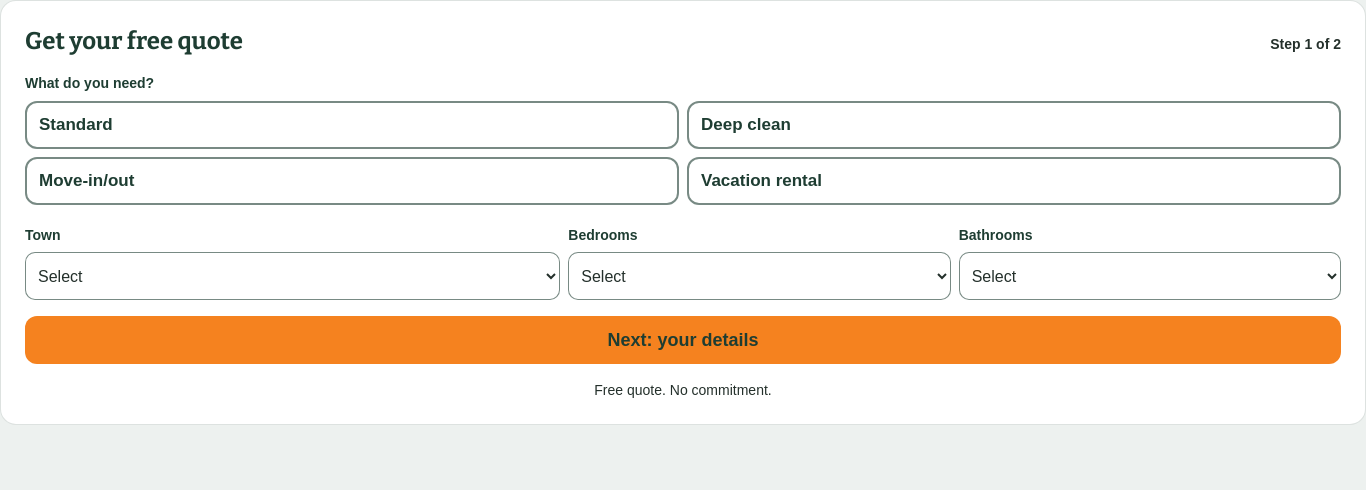
Test: QuoteForm step 1 › shows what's missing and stays on step 1 when Next is pressed early
Click the button "Next: your details" at (683, 340), box [25,316,1341,364]
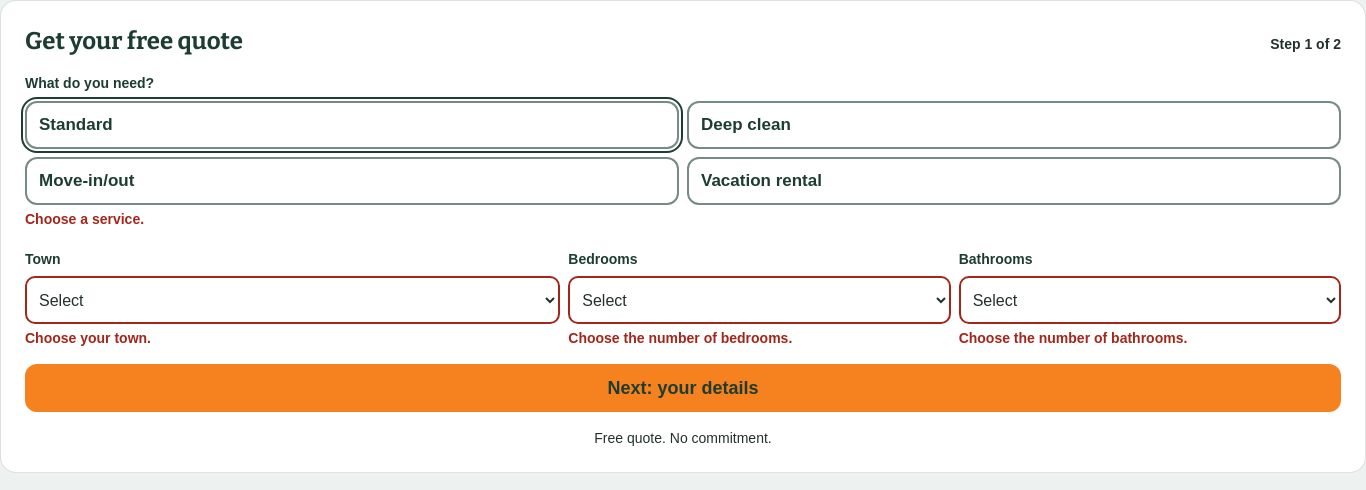
Check: the text "Choose a service." is shown, box [25,211,144,227]
Check: the text "Choose your town." is shown, box [25,330,151,346]
Check: the text "Choose the number of bedrooms." is shown, box [568,330,792,346]
